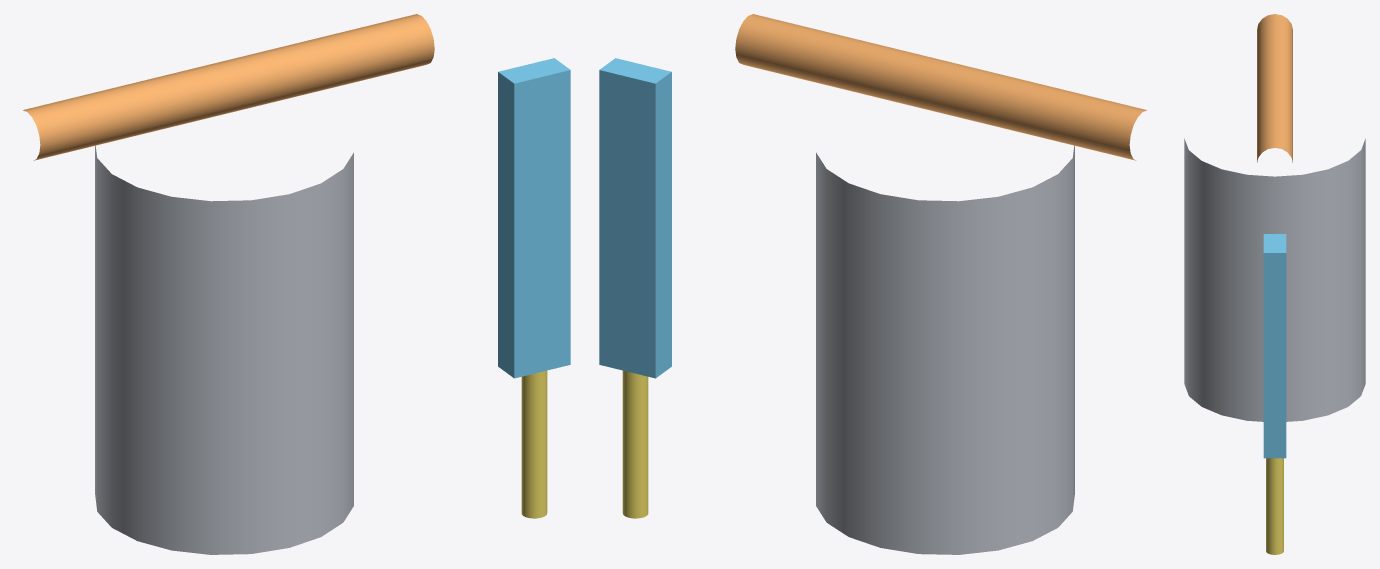
The model's file is steam_properties_mollier.glb.
The picture shows the model from 3 angles, left to right: view 1: azimuth 30°, elevation 25°; view 2: azimuth 150°, elevation 25°; view 3: azimuth 270°, elevation 25°; orthographic projection. The views are drawn at different scales.
Visible parts, largest first — view 1: ThrottlingCalorimeterBody, MercuryManometerUColumn, SteamSamplingPipe, SteamThermometerWell; view 2: ThrottlingCalorimeterBody, MercuryManometerUColumn, SteamSamplingPipe, SteamThermometerWell; view 3: ThrottlingCalorimeterBody, MercuryManometerUColumn, SteamSamplingPipe, SteamThermometerWell.
Part boxes in pixels (<box>): ThrottlingCalorimeterBody: <box>95,145,353,554</box>; MercuryManometerUColumn: <box>498,58,570,378</box>; SteamSamplingPipe: <box>23,14,434,160</box>; SteamThermometerWell: <box>521,370,547,518</box>; ThrottlingCalorimeterBody: <box>816,145,1074,554</box>; MercuryManometerUColumn: <box>599,58,671,378</box>; SteamSamplingPipe: <box>735,14,1146,160</box>; SteamThermometerWell: <box>622,370,648,518</box>; ThrottlingCalorimeterBody: <box>1184,138,1365,421</box>; MercuryManometerUColumn: <box>1263,234,1286,458</box>; SteamSamplingPipe: <box>1257,14,1292,162</box>; SteamThermometerWell: <box>1266,458,1283,554</box>.
Size of the model in its own units: 1.9 by 1.78 by 0.8.
